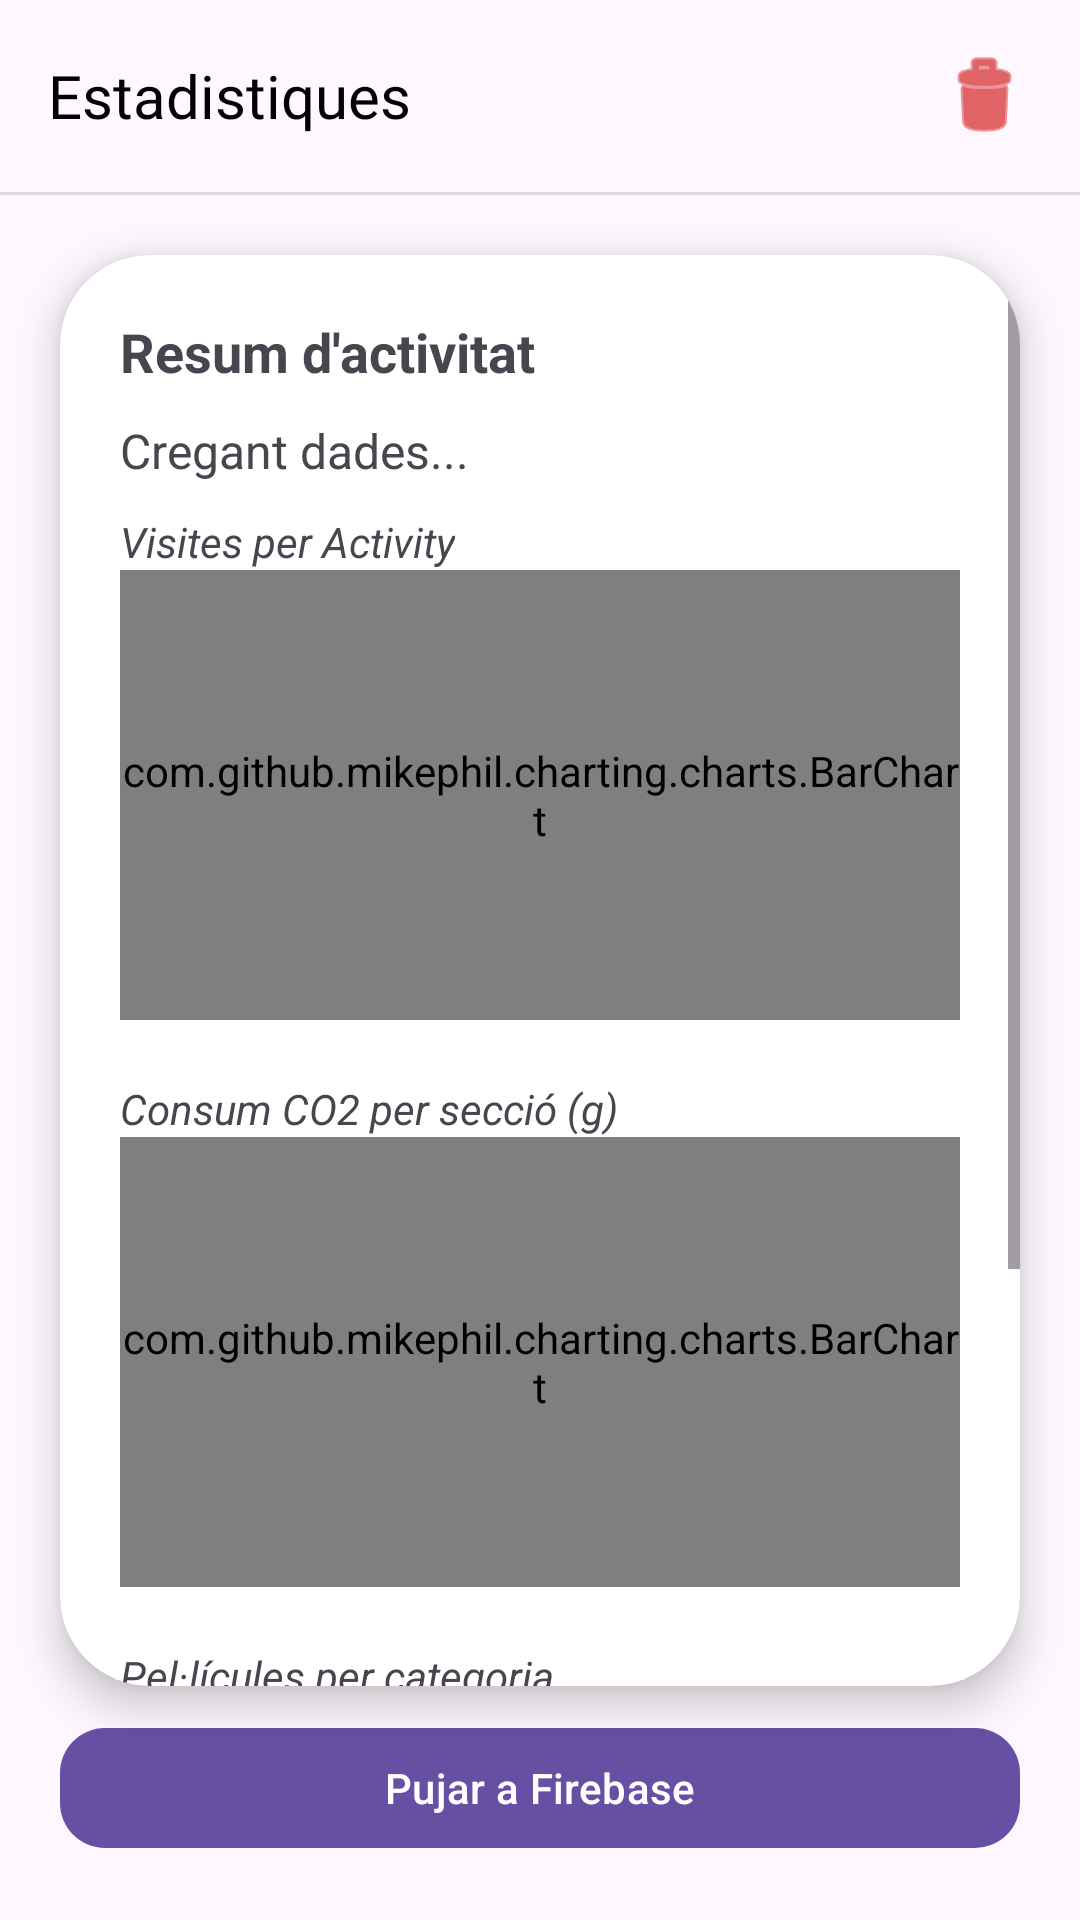

Named icons in this screenshot (1080px x 1920px) and their centers, (x,y):
Borrar dades: (984,94)
